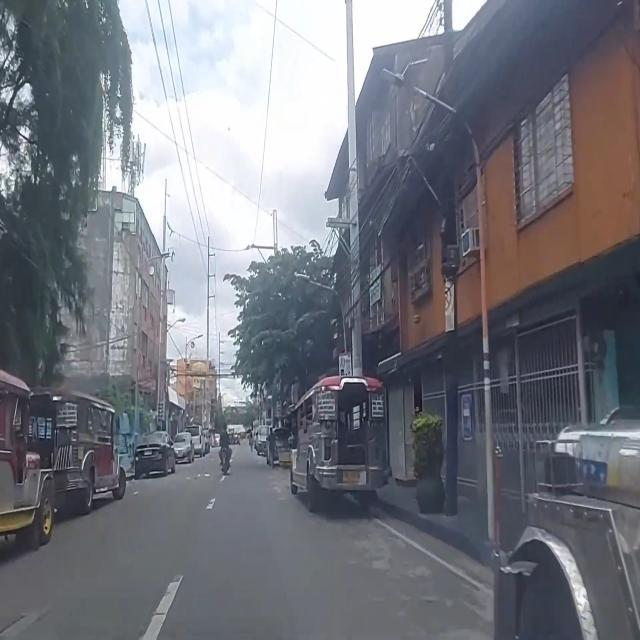car: (134, 430, 176, 480), (184, 426, 206, 458), (173, 432, 194, 464)
jeepney: (490, 400, 640, 640), (293, 376, 392, 516), (27, 386, 129, 520), (0, 366, 53, 556)
motorcycle: (218, 421, 232, 476)
